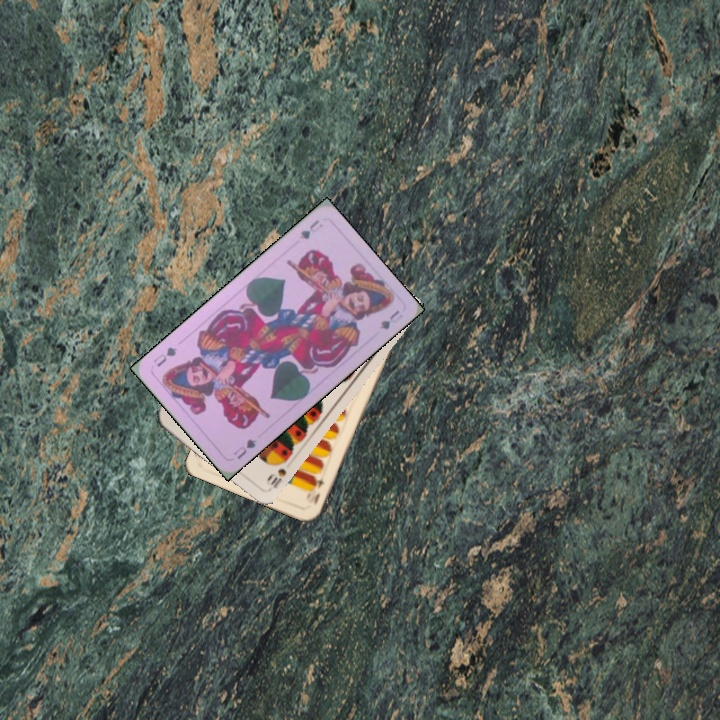E10: (307, 469, 327, 508)
GU: (295, 215, 326, 242), (229, 435, 259, 462)
S10: (263, 455, 291, 491)
